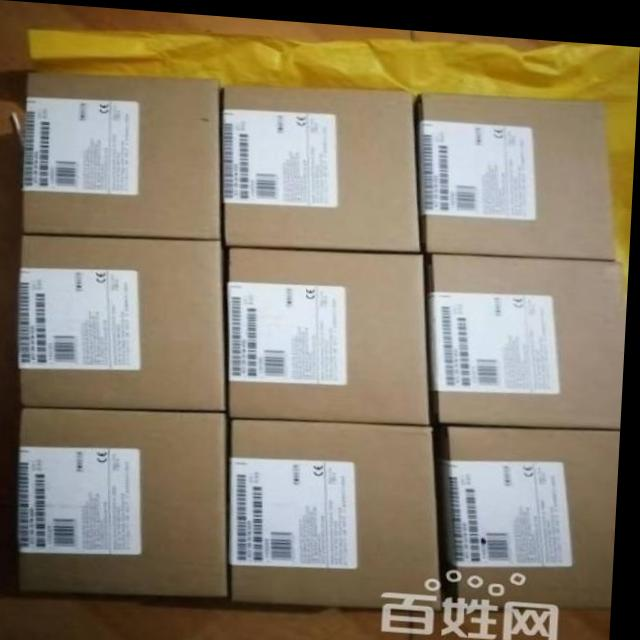box: (232, 414, 445, 605), (23, 409, 235, 595), (22, 235, 235, 412), (225, 244, 435, 418), (437, 418, 619, 605), (223, 81, 425, 246), (25, 72, 225, 238), (433, 247, 622, 419), (421, 87, 616, 249)
